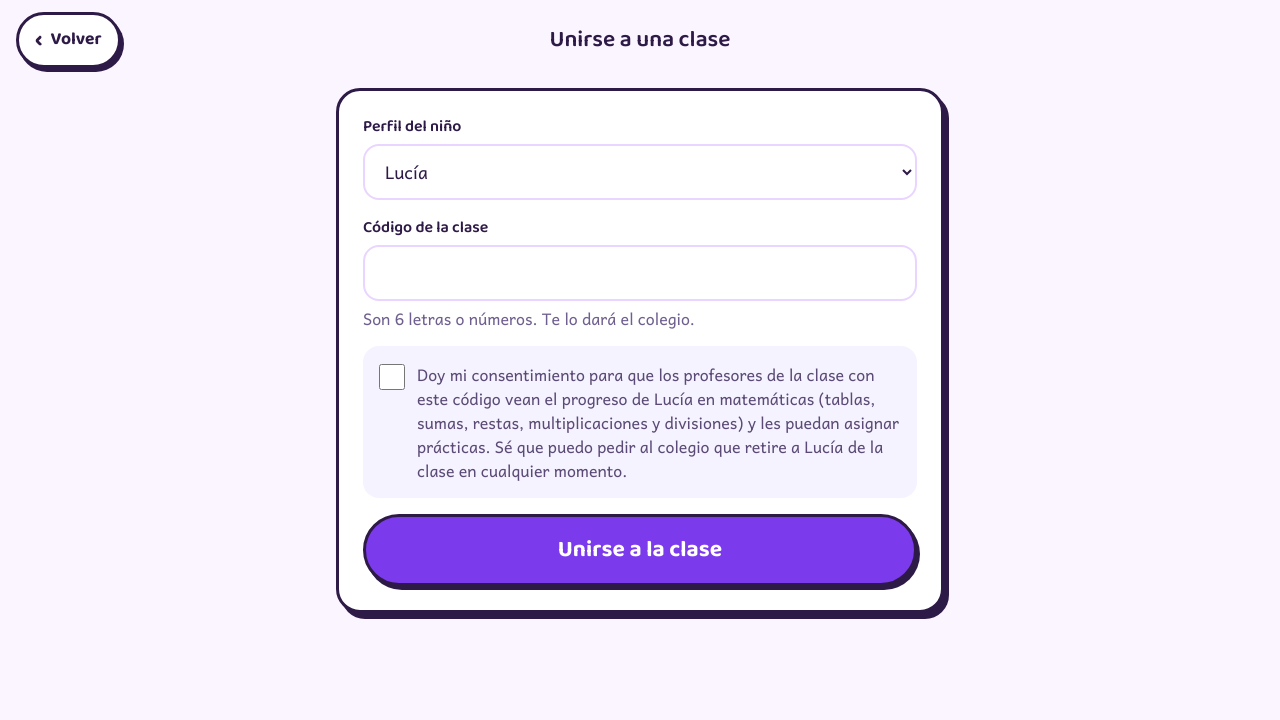
Scenario: JoinClassScreen › links the child with the cleaned code once the parent consents
In the field labelled "Código de la clase": [640, 273] box x1=363 y1=245 x2=917 y2=301, type "ab-12 cd"
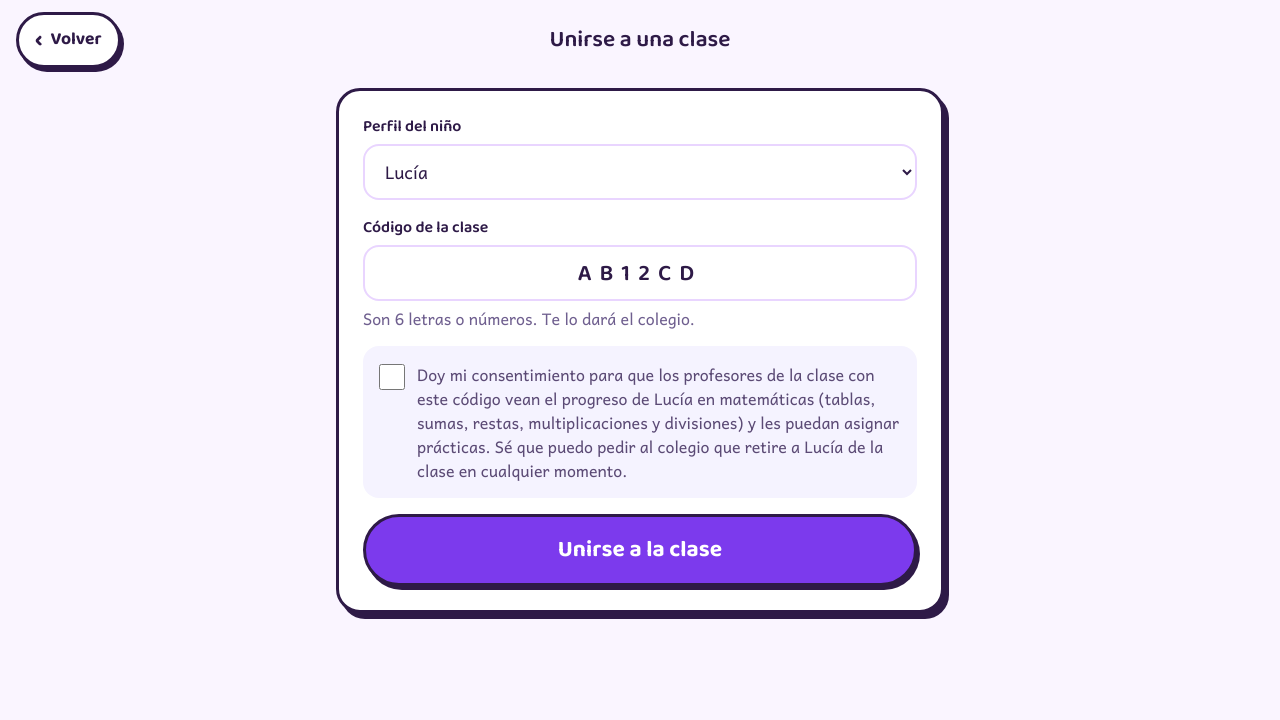
Click the checkbox: [392, 377] box x1=379 y1=364 x2=405 y2=390
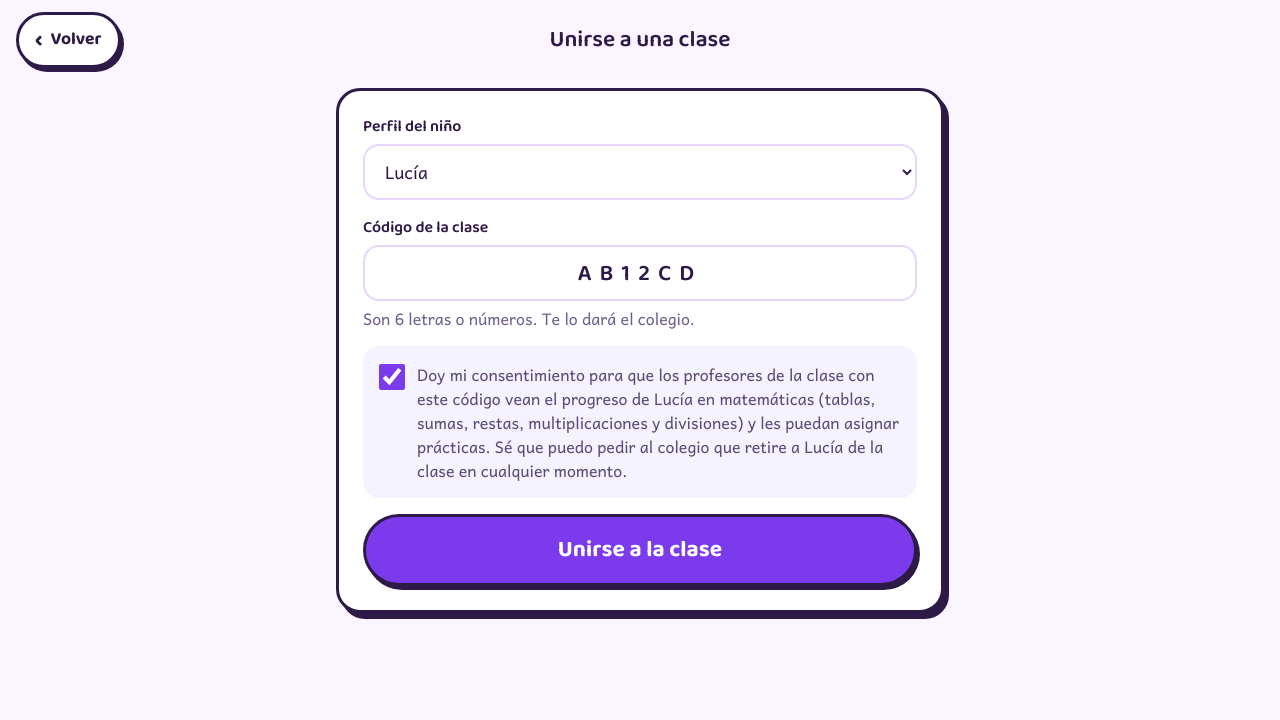
Click the button "Unirse a la clase": [640, 550] box x1=363 y1=514 x2=917 y2=586
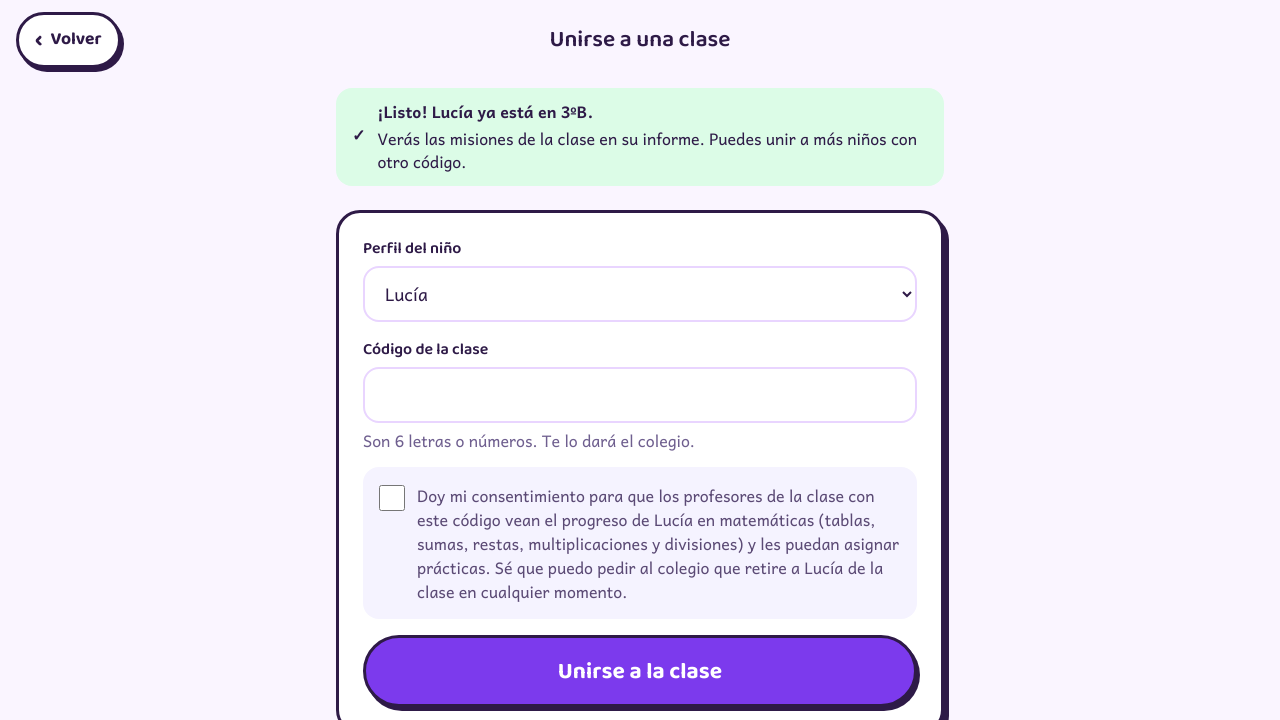
Now the text "¡Listo! Lucía ya está en 3ºB." is shown, box x1=377 y1=98 x2=593 y2=124
